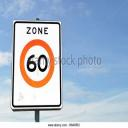speed_limit_60: (19, 39, 55, 88)
